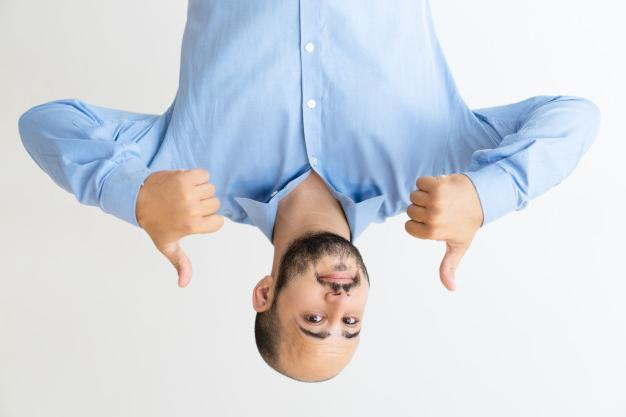thumbsdown: (159, 169, 224, 288), (405, 177, 461, 292)
